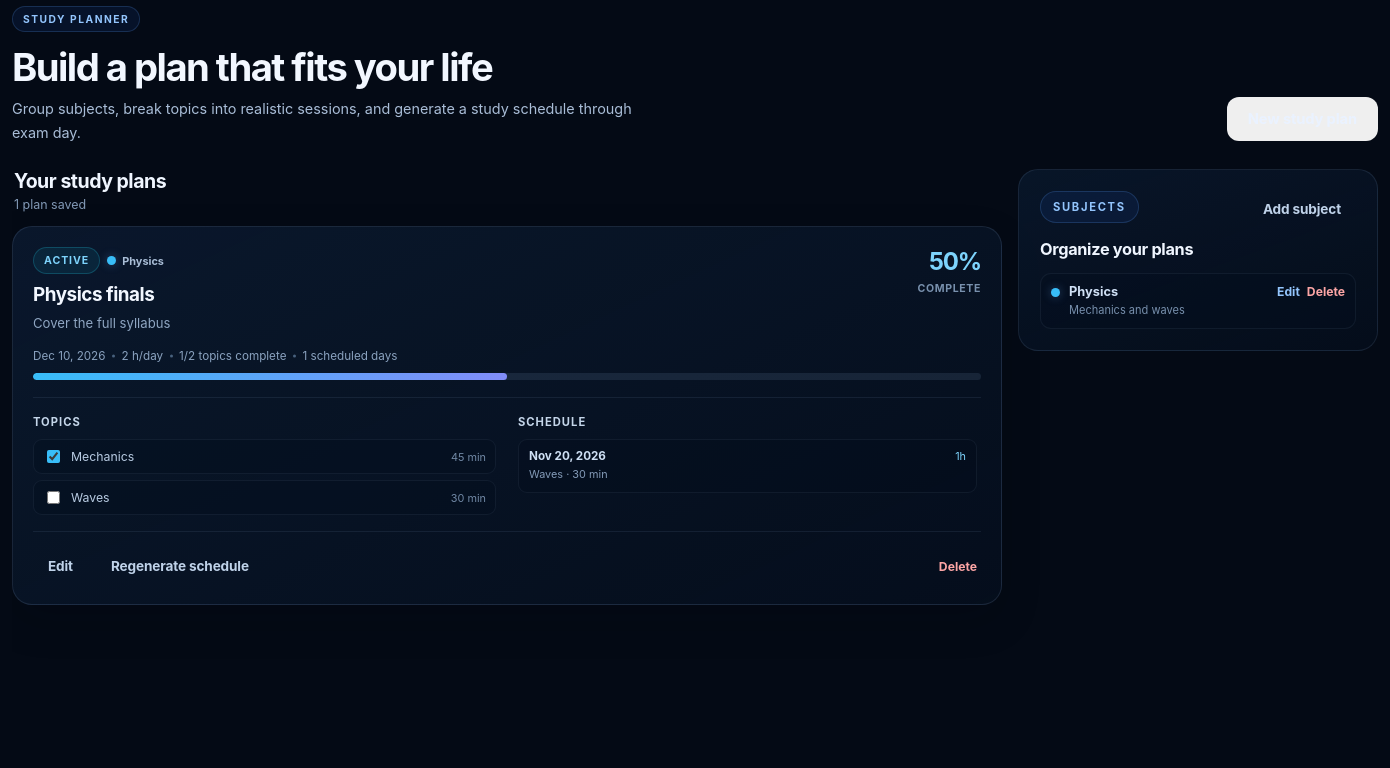
Test: study planner page › updates topic progress and recalculates the plan progress
Step 1. Click the checkbox labelled "Waves" → (54, 498), box [47,491,60,504]
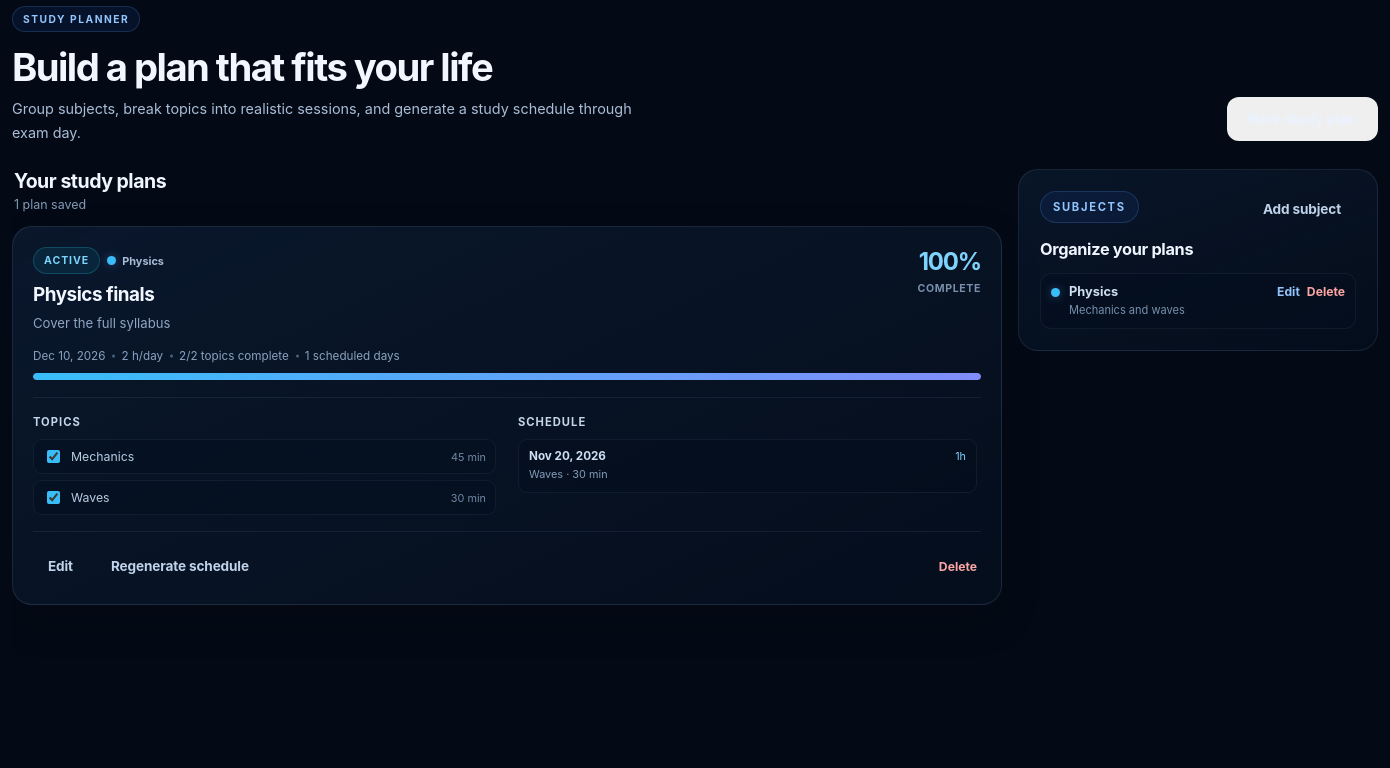
Result: the text "100%" is shown at [913,247,981,276]
Result: the text "2/2 topics complete" is shown at [179,349,289,363]
